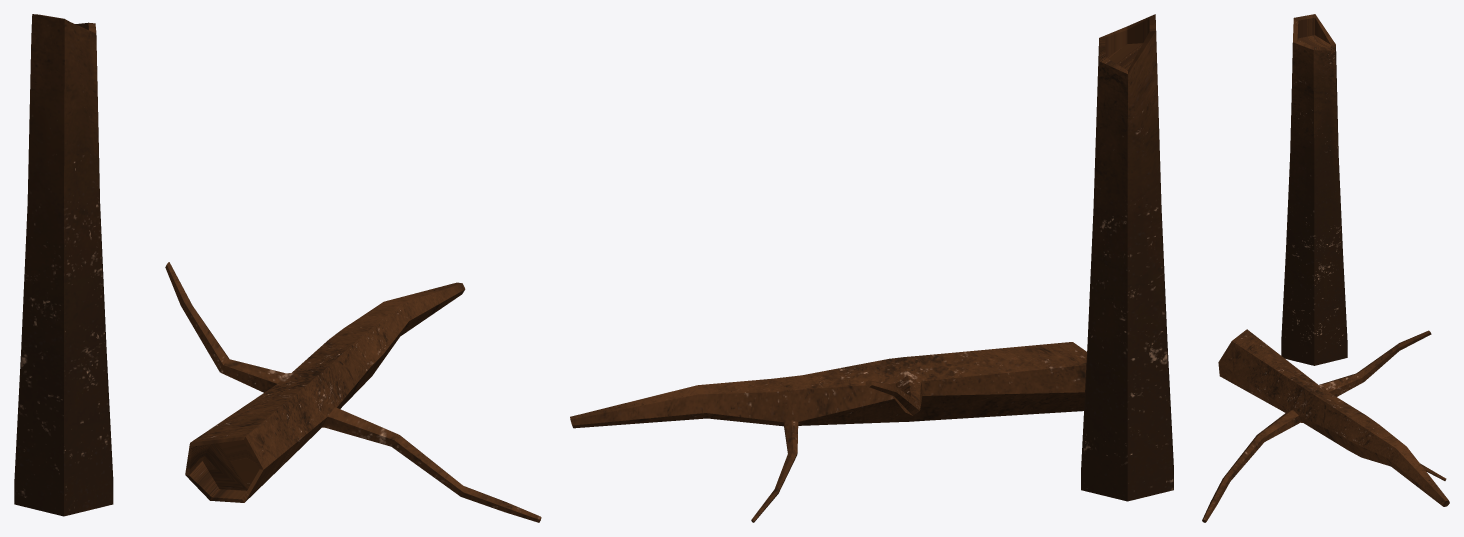
File: Tree_03_Quebrada.fbx
The picture shows the model from 3 angles, left to right: view 1: azimuth 30°, elevation 25°; view 2: azimuth 150°, elevation 25°; view 3: azimuth 270°, elevation 25°; orthographic projection. The views are drawn at different scales.
Parts seen in each view (by area): view 1: B2; view 2: B2; view 3: B2.
Part boxes in pixels (x1,y1,x2,y2): B2: (14, 14, 541, 522); B2: (570, 14, 1173, 522); B2: (1202, 14, 1449, 522).
Size of the model in its own units: 16.86 by 16.33 by 9.87.
